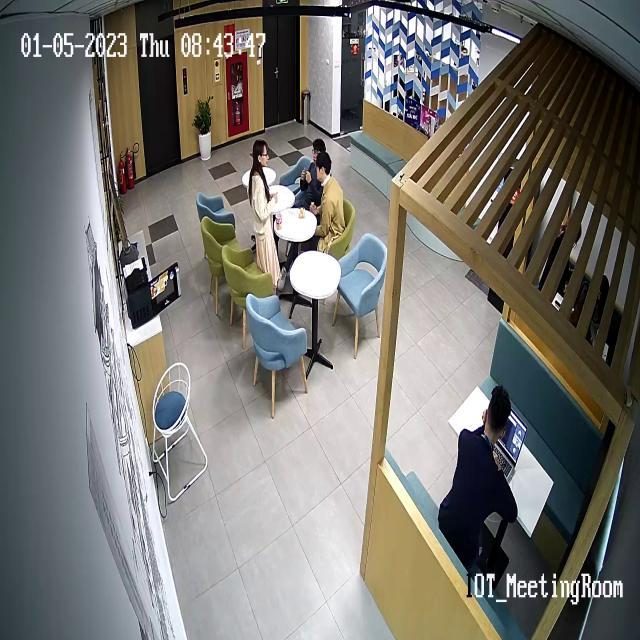person: (439, 386, 520, 598), (249, 139, 282, 292), (306, 153, 346, 254), (298, 141, 325, 219)
